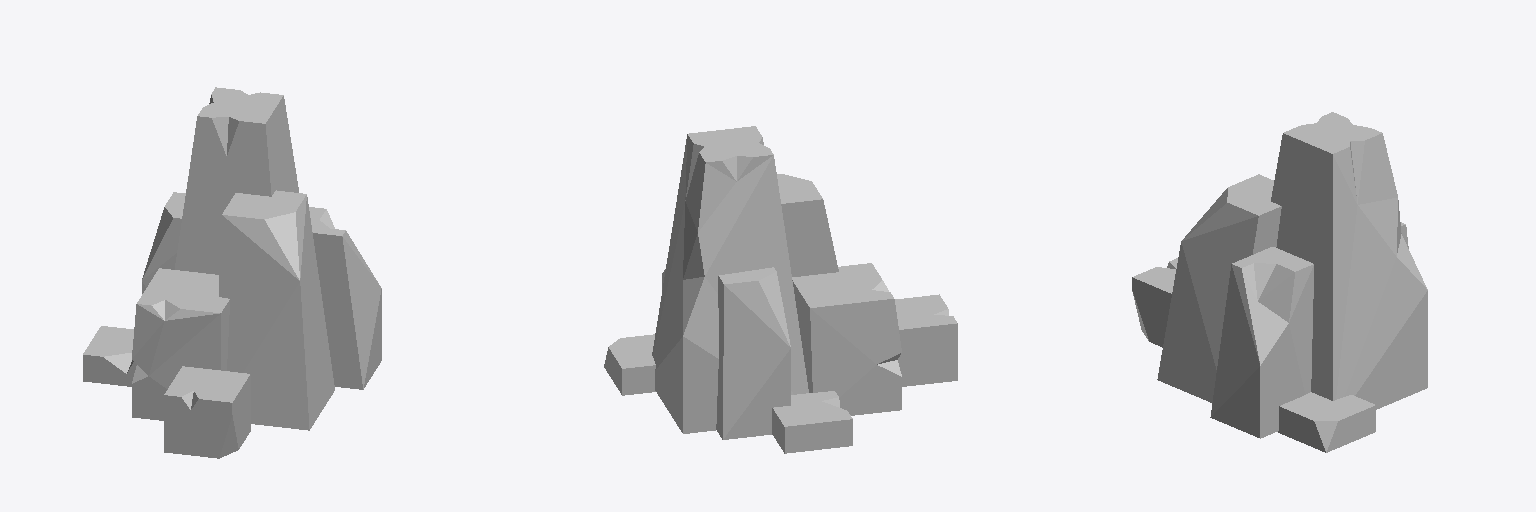
The model's file is rock00.obj.
3 views of the same model, side by side, from view 1: azimuth 30°, elevation 25°; view 2: azimuth 150°, elevation 25°; view 3: azimuth 270°, elevation 25° (orthographic).
Parts seen in each view (by area): view 1: rock_02_rock02; view 2: rock_02_rock02; view 3: rock_02_rock02.
Part boxes in pixels (bbox=[...]): rock_02_rock02: bbox=[83, 87, 381, 458]; rock_02_rock02: bbox=[604, 126, 957, 453]; rock_02_rock02: bbox=[1132, 112, 1427, 452].
Size of the model in its own units: 3.61 by 3.14 by 3.28.